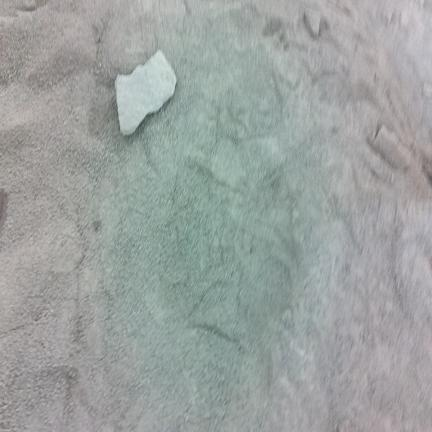Rock: (115, 50, 176, 135), (371, 125, 411, 170), (304, 9, 320, 37)
